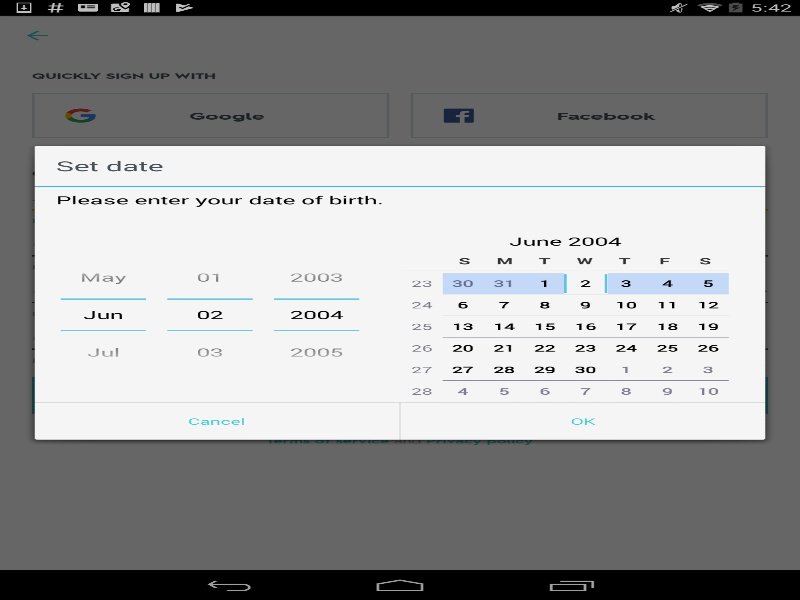Button: (34, 402, 399, 439), (400, 402, 765, 439), (60, 258, 146, 299), (60, 329, 146, 370), (167, 258, 252, 299), (167, 329, 252, 370), (274, 258, 359, 299), (274, 329, 359, 370)
Input: (60, 299, 146, 329), (167, 299, 252, 329), (274, 299, 359, 329)
